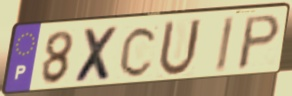8: (40, 29, 75, 87)
C: (117, 24, 161, 79)
I: (214, 15, 237, 75)
P: (234, 12, 283, 73)
U: (155, 17, 204, 79)
X: (72, 25, 121, 85)
